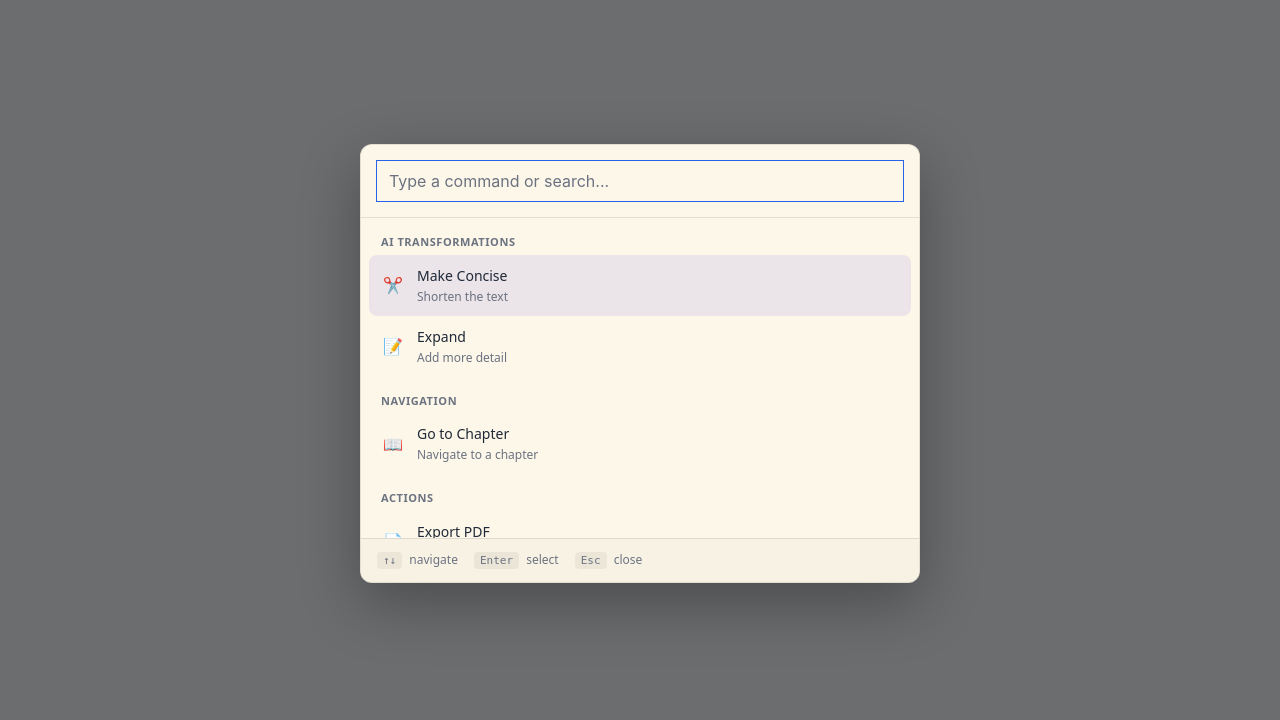
Test: CommandPalette › AC 5.2.2: Fuzzy Search and Filtering › shows empty state when no commands match
The width and height of the screenshot is (1280, 720).
Type "xyznonexistent" into the dropdown with placeholder "Type a command or search..." at (640, 181), box left=377, top=161, right=903, bottom=201
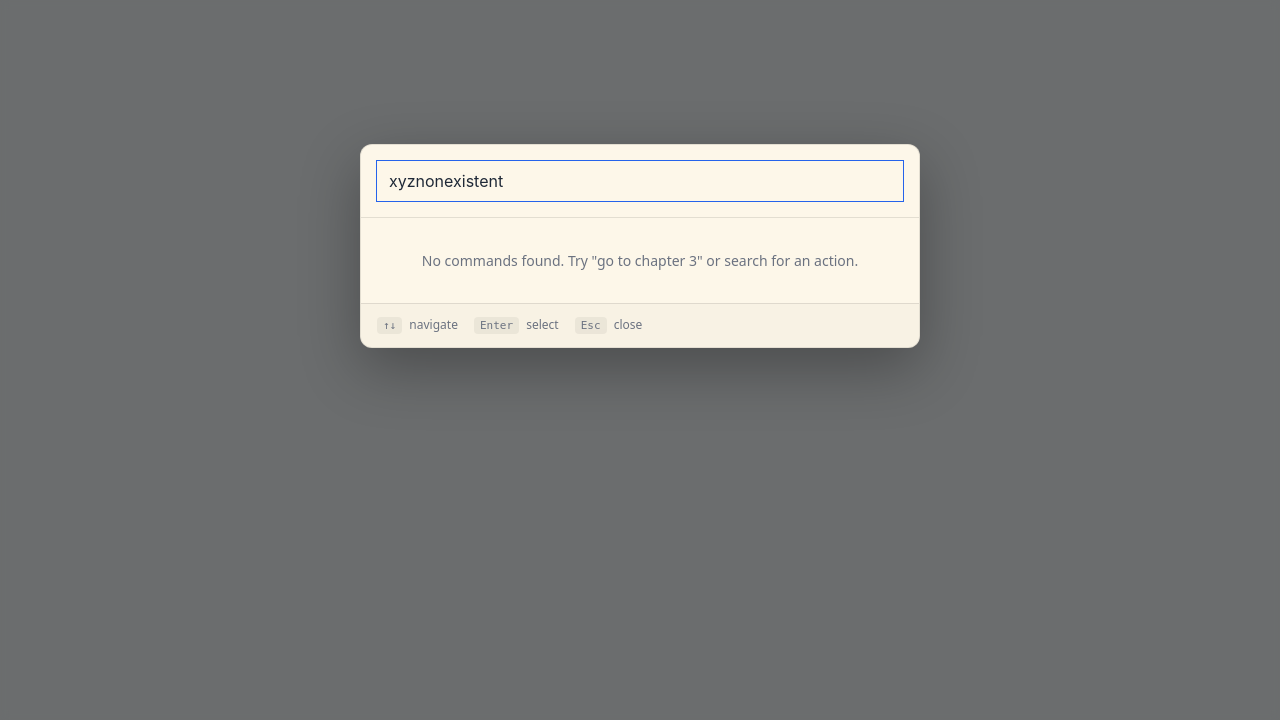
Result: the text "No commands found" is shown at left=422, top=251, right=858, bottom=270
